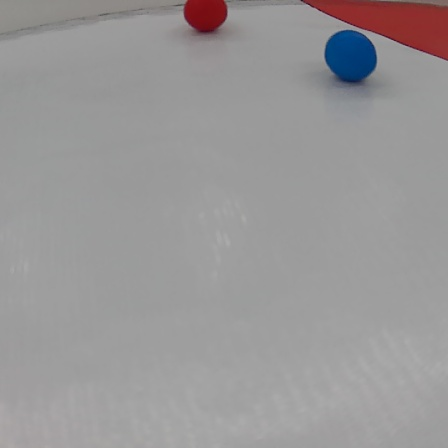blue: (322, 27, 375, 79)
red: (182, 0, 228, 32)
red_base: (309, 0, 448, 63)
